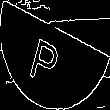P_N: (37, 24, 73, 86)
